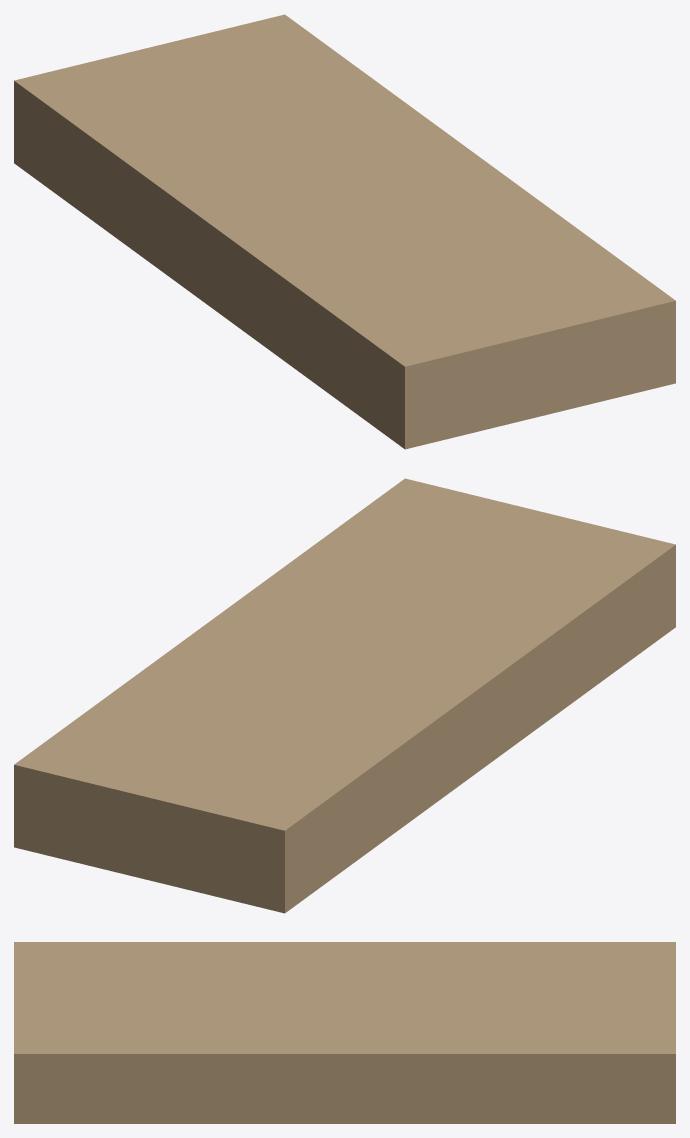
File: plank.glb
3 views of the same model, one above another, from view 1: azimuth 30°, elevation 25°; view 2: azimuth 150°, elevation 25°; view 3: azimuth 270°, elevation 25° (orthographic). The views are drawn at different scales.
Visible parts, largest first — view 1: 00_plank; view 2: 00_plank; view 3: 00_plank.
Boxes of the visible parts, bbox=[...] form: 00_plank: bbox=[14, 14, 675, 449]; 00_plank: bbox=[14, 478, 675, 913]; 00_plank: bbox=[14, 942, 675, 1123].
Size of the model in its own units: 0.24 by 0.074 by 0.6.
